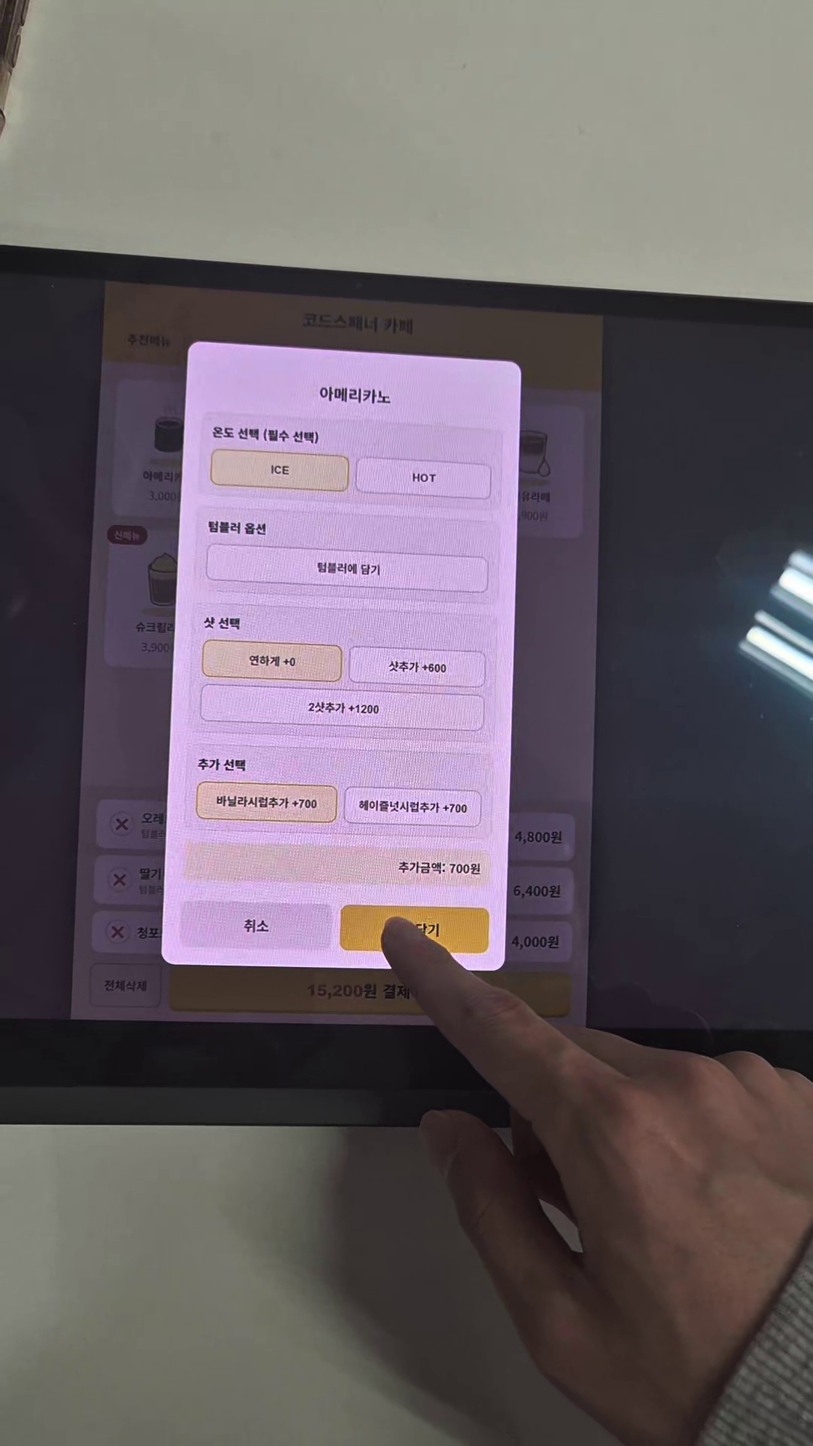action_button: (161, 342, 521, 970), (180, 901, 333, 950), (340, 905, 489, 954)
option_button: (206, 544, 488, 593), (201, 684, 485, 730), (211, 450, 348, 492), (356, 457, 491, 499), (202, 641, 342, 681), (197, 782, 337, 822), (344, 787, 481, 827), (350, 647, 486, 687)
